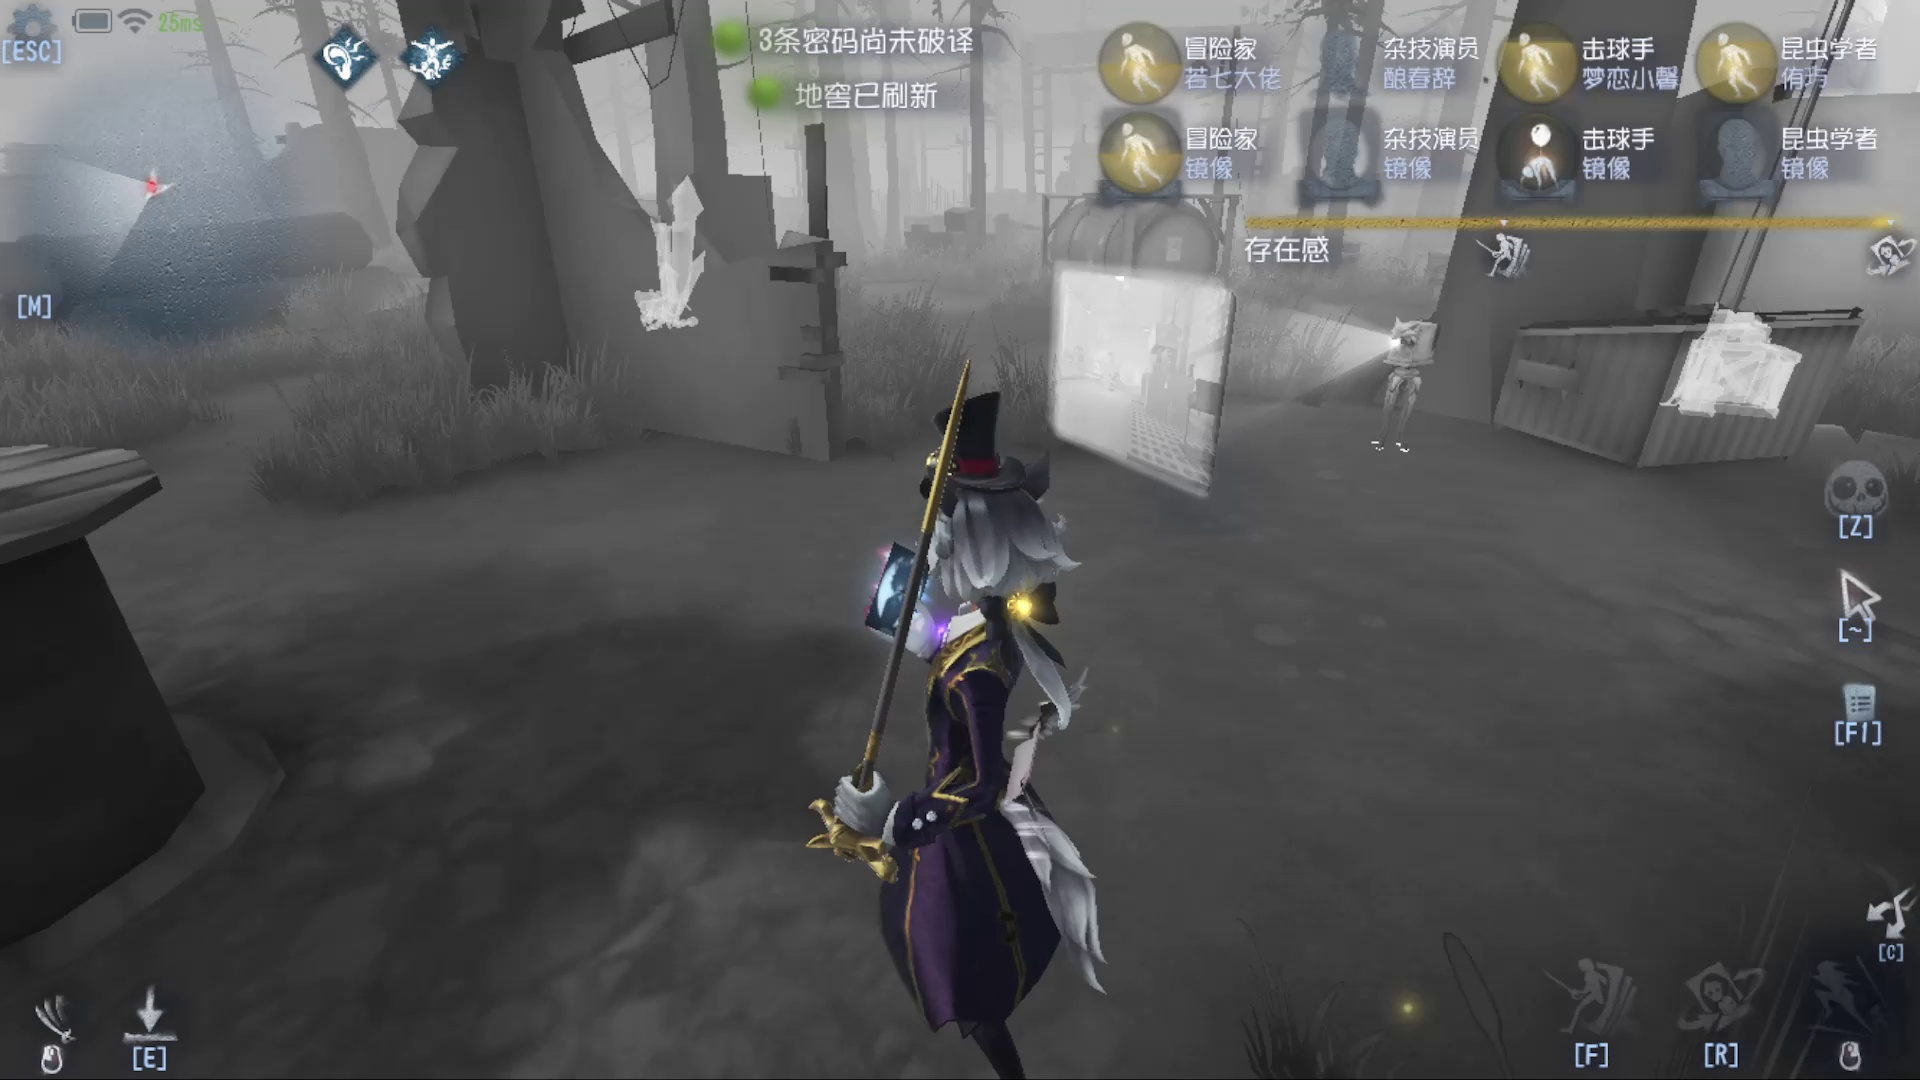狂欢之椅: (603, 178, 729, 332)
